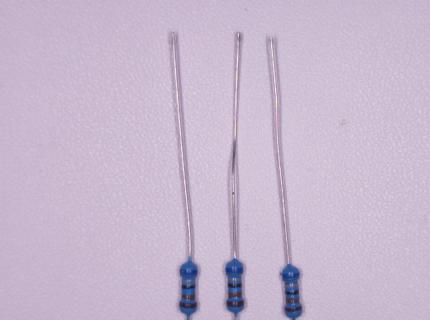Black band: (285, 289, 299, 296), (228, 283, 242, 288), (182, 285, 195, 290)
Blue band: (225, 267, 243, 274), (282, 273, 300, 279), (180, 269, 197, 275)
Brown band: (227, 300, 244, 307), (285, 306, 302, 312), (180, 302, 197, 308)
Grey band: (284, 283, 299, 289), (228, 277, 242, 282), (182, 279, 195, 284)
Orange band: (181, 294, 195, 300), (228, 292, 242, 298), (286, 298, 299, 303)
